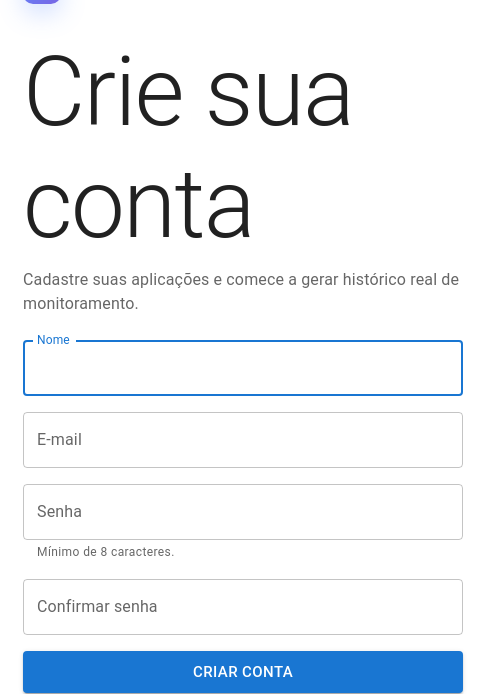
Scenario: Account forms › presents server registration errors without an infinite loader
In the field labelled "Nome": (243, 368) [23,340,463,396], type "Pessoa real"
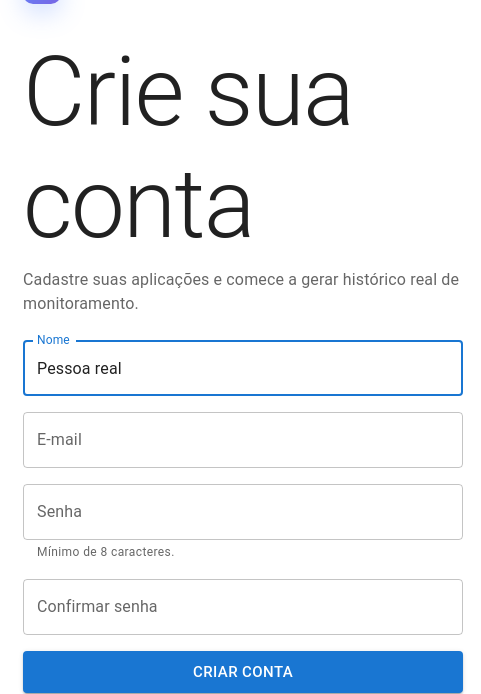
In the field labelled "E-mail": (243, 440) [23,412,463,468], type "person@example.org"
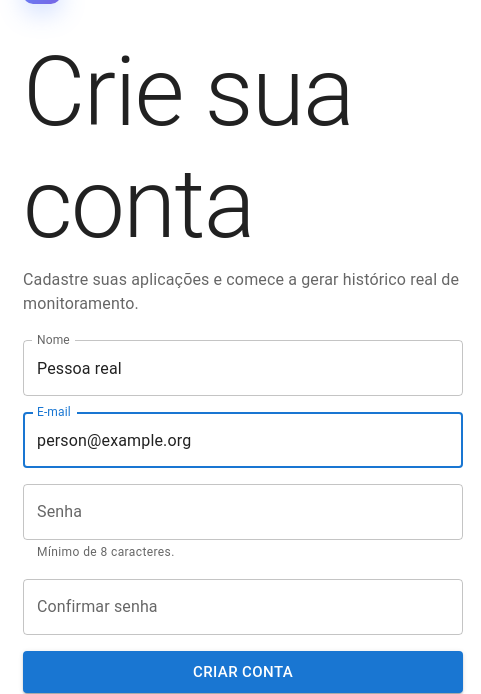
In the password field labelled "Senha": (243, 512) [23,484,463,540], type "Password@2026"
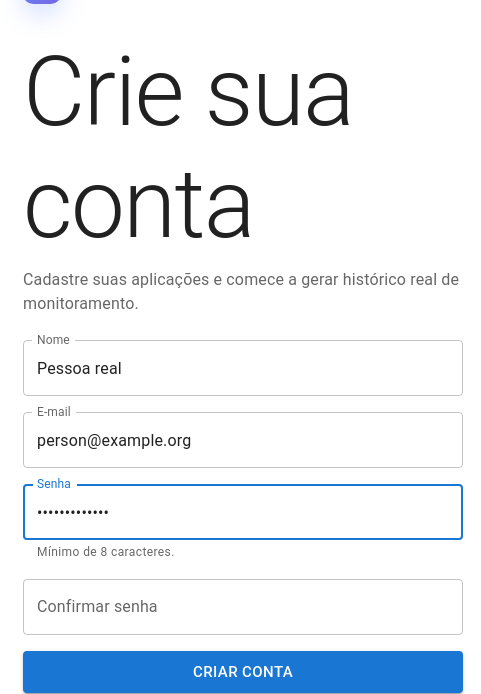
In the password field labelled "Confirmar senha": (243, 607) [23,579,463,635], type "Password@2026"
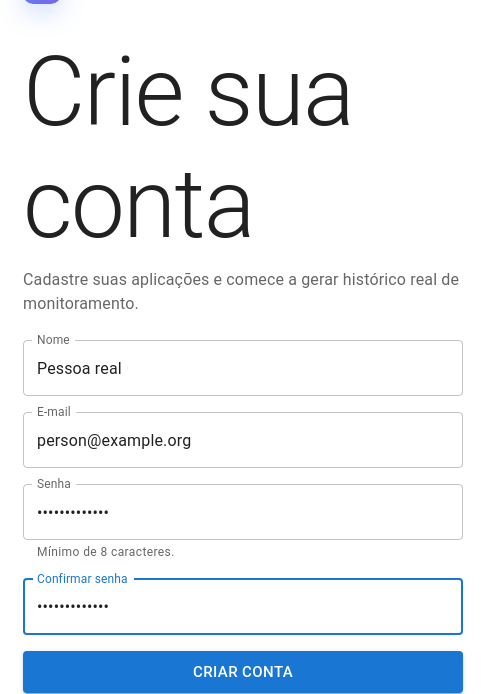
Click the button "Criar conta": (243, 672) [23,651,463,693]
(page scrolled)
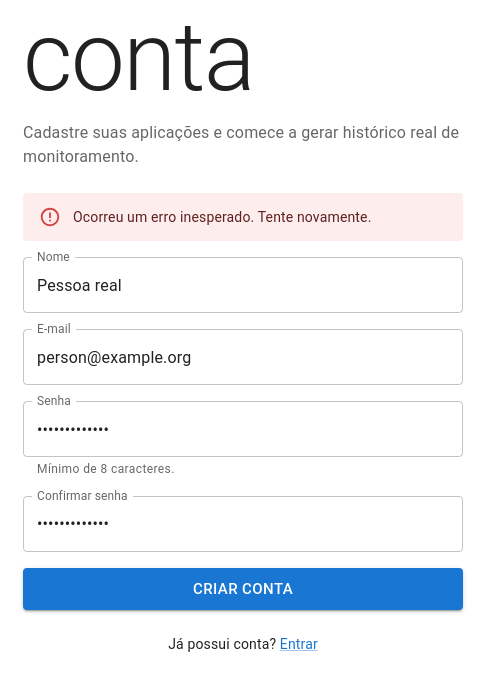
Check: the button "Criar conta" is enabled, box [23,568,463,610]
Check: the message "Ocorreu um erro inesperado. Tente novamente." is shown, box [23,193,463,241]
